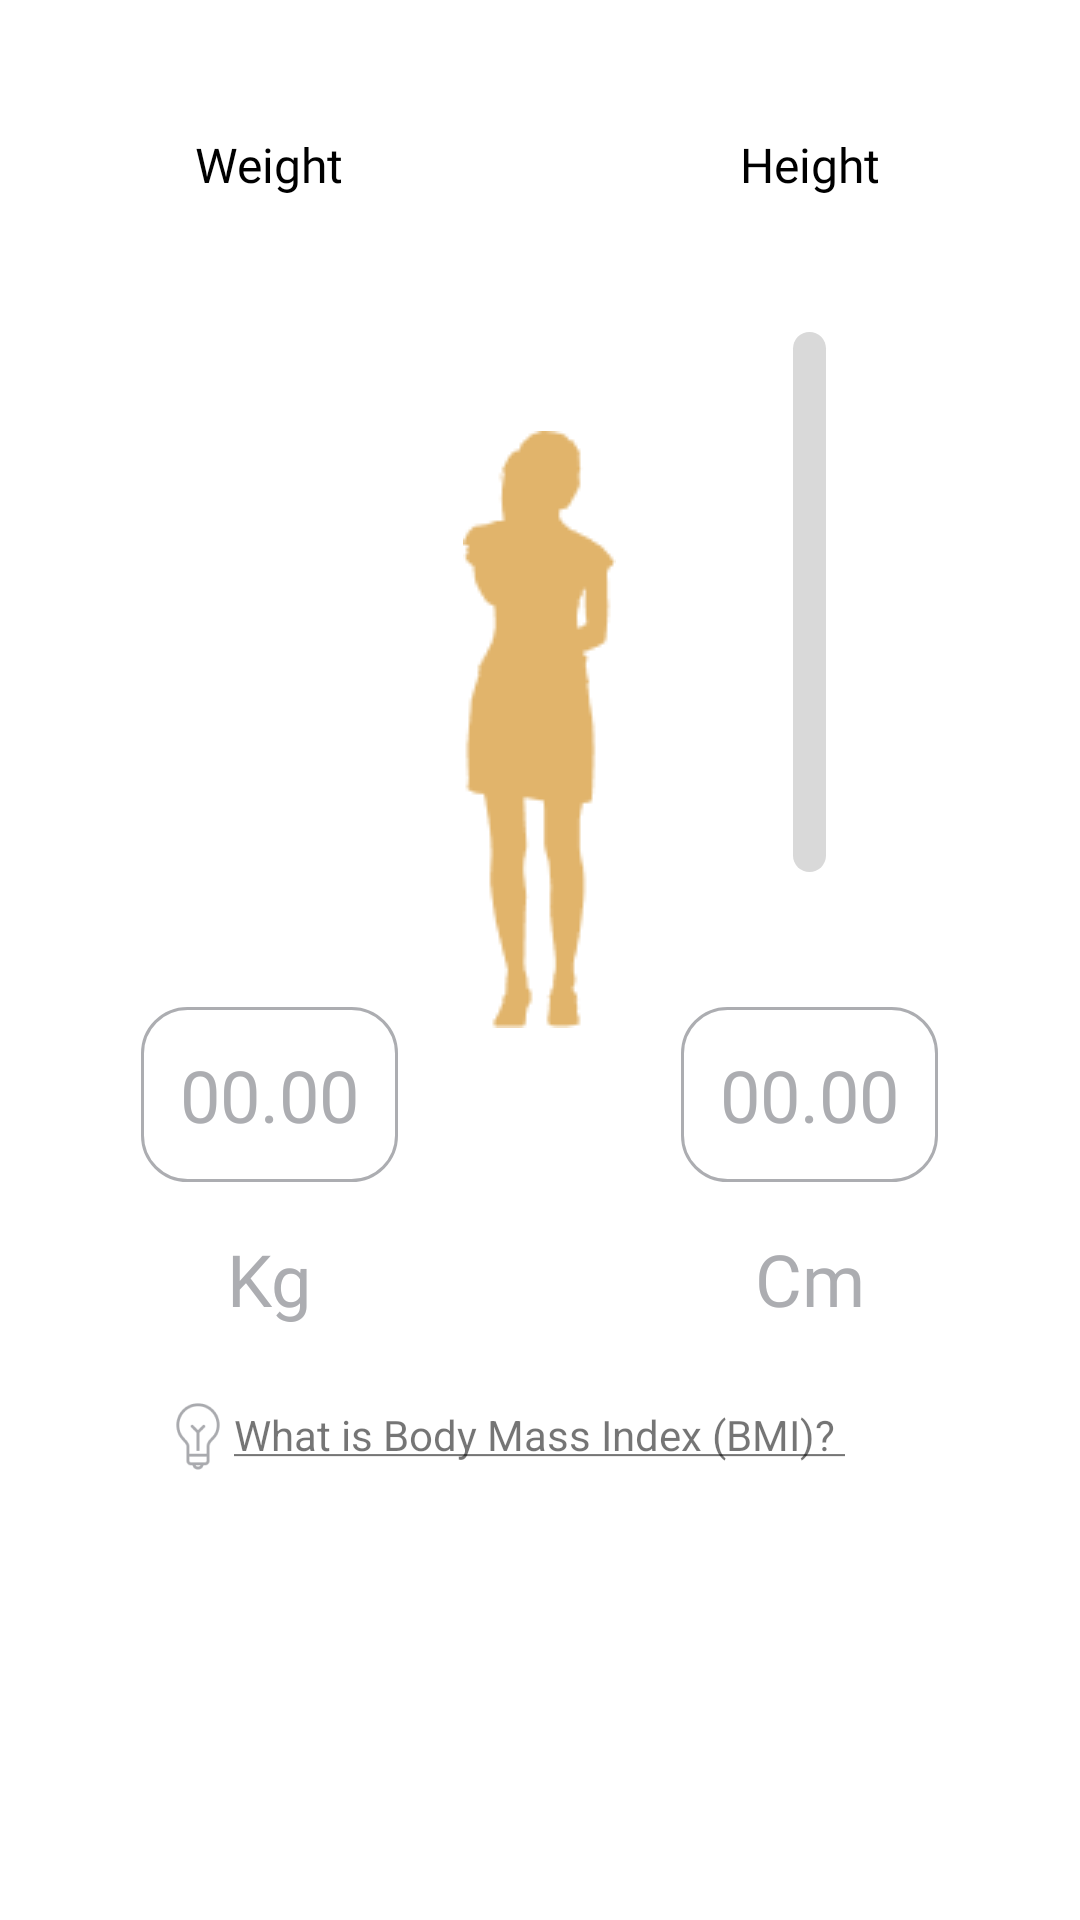

Screen size 1080px x 1920px. Icon name, then its center in pixels as point (x, y):
tip: point (198, 1436)
